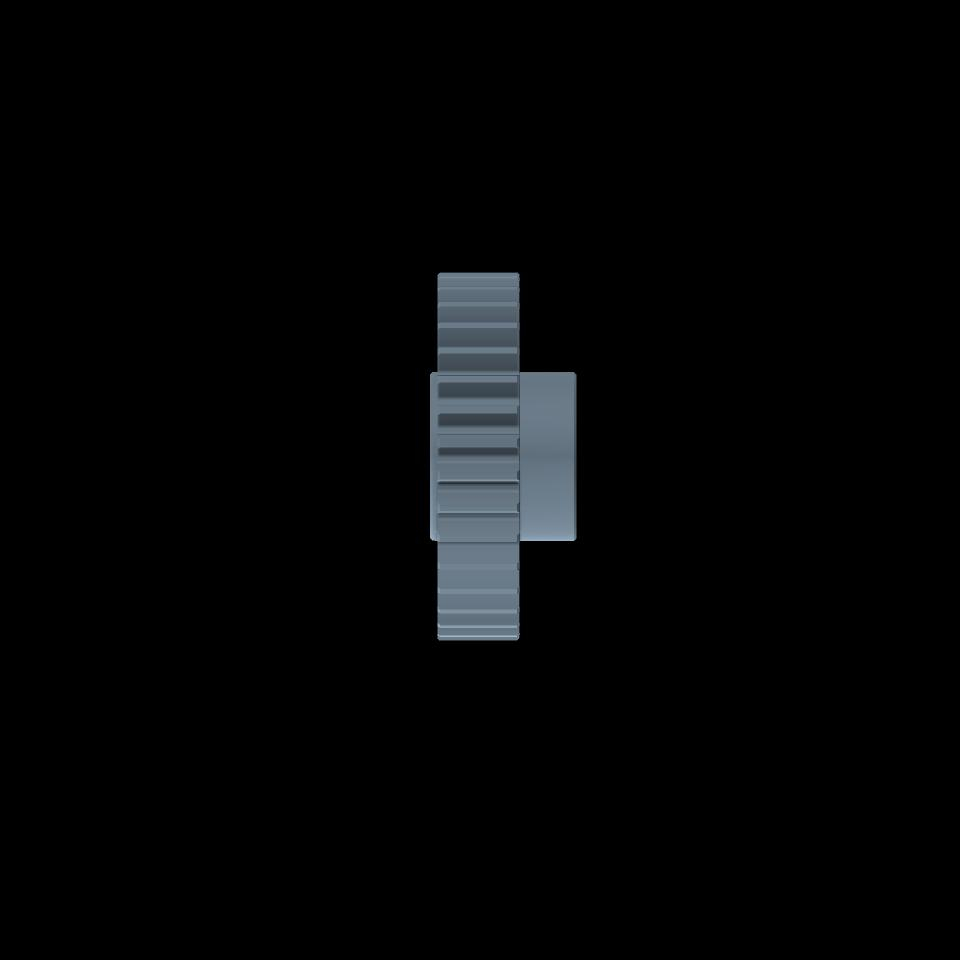Straight: (441, 273, 515, 640)
